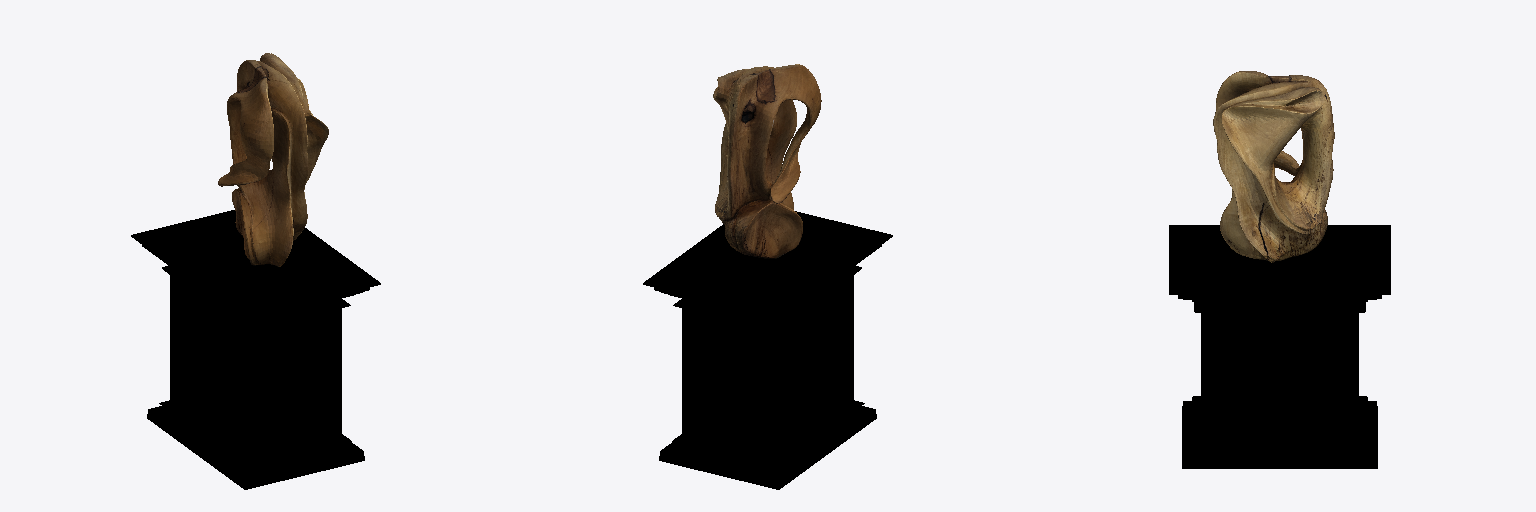
3 views of the same model, side by side, from view 1: azimuth 30°, elevation 25°; view 2: azimuth 150°, elevation 25°; view 3: azimuth 270°, elevation 25° (orthographic).
Visible parts, largest first — view 1: Default, Escultura3:polySurface1; view 2: Default, Escultura3:polySurface1; view 3: Default, Escultura3:polySurface1.
Boxes of the visible parts, <box> form: Default: <box>131,210,380,489</box>; Escultura3:polySurface1: <box>218,53,328,266</box>; Default: <box>643,211,892,489</box>; Escultura3:polySurface1: <box>713,64,821,258</box>; Default: <box>1169,225,1390,468</box>; Escultura3:polySurface1: <box>1213,71,1334,262</box>.
Size of the model in its own units: 3.41 by 8.68 by 4.77.
2 materials, 1 textured.